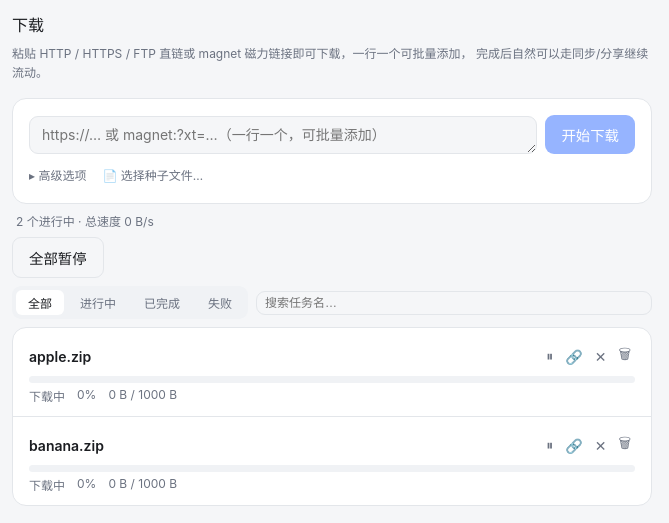
Test: DownloadPage › 搜索框按标题过滤任务
Type "apple" into the field with class "search" at (454, 303), box 256,291 -> 652,315
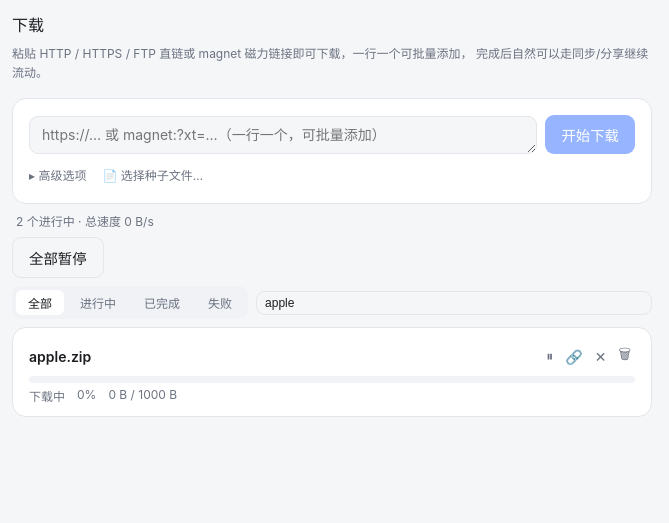
Check: the text "apple.zip" is shown, box 29,348 -> 91,365
Check: the number of elements with class "drow" is 1, box 13,328 -> 651,416
